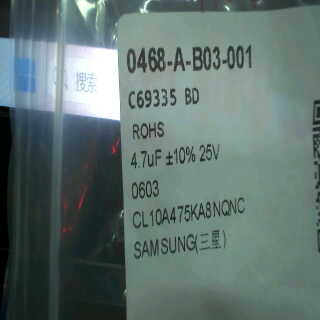4.7uF: (124, 145, 166, 174)
